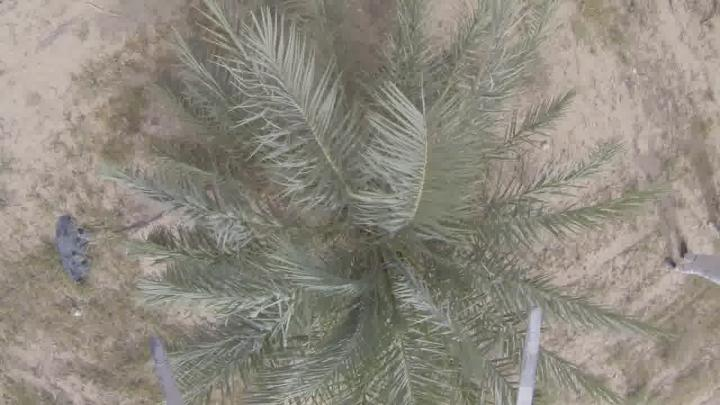Date-Palm-Crown: (209, 97, 507, 405)
